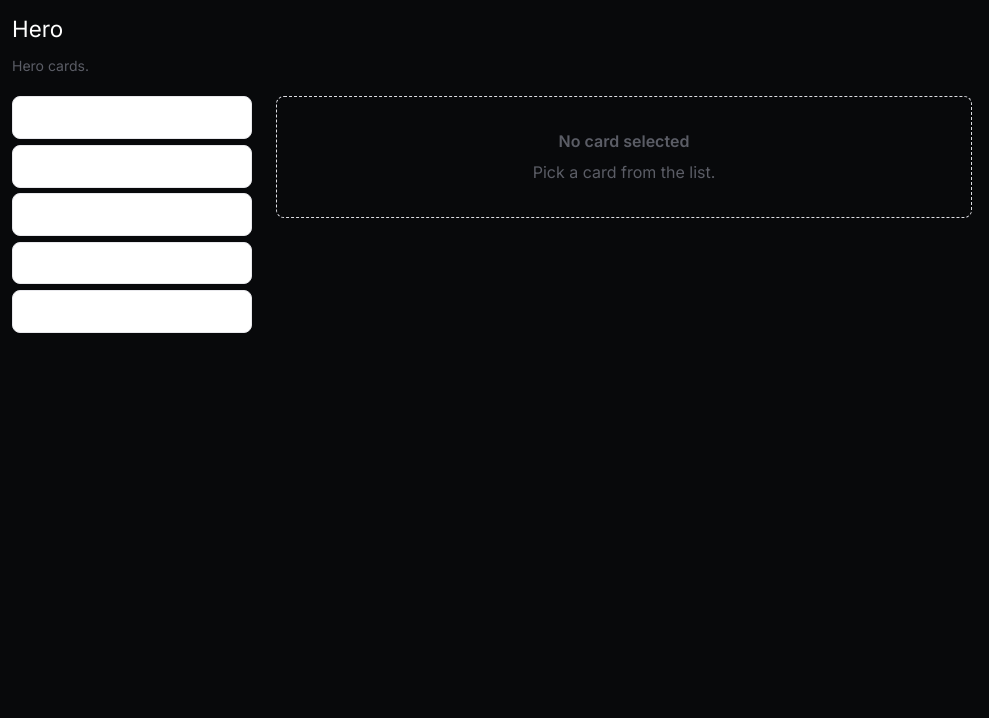
Test: SectionCardsPage › selecting a card shows its editor fields, no Sub field for Hero
Click the button "1 — Business Goals": (132,118) [12,96,252,139]
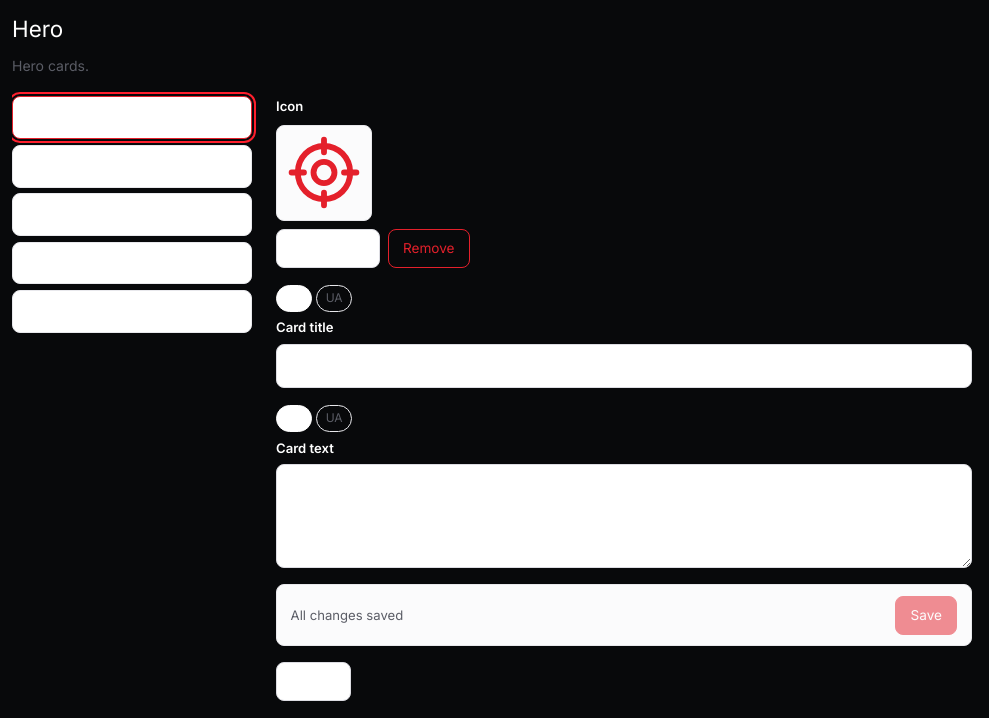
Result: the field labelled "Card title" is shown at [276,344,972,388]
Result: the text box labelled "Card text" is shown at [276,464,972,568]
